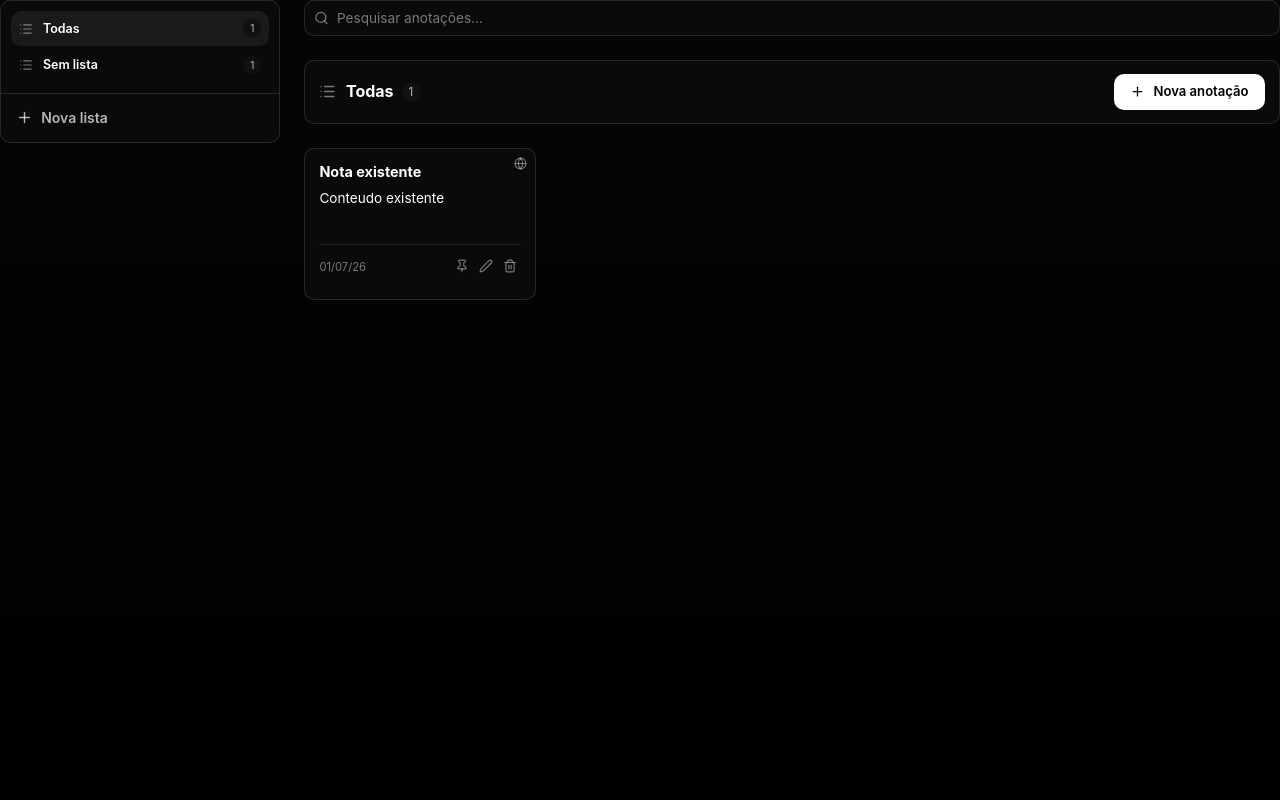
Notes Page › adds a new subtask from the note detail view
Click the text "Nota existente" at {"x": 370, "y": 172}, box [319,163,421,180]
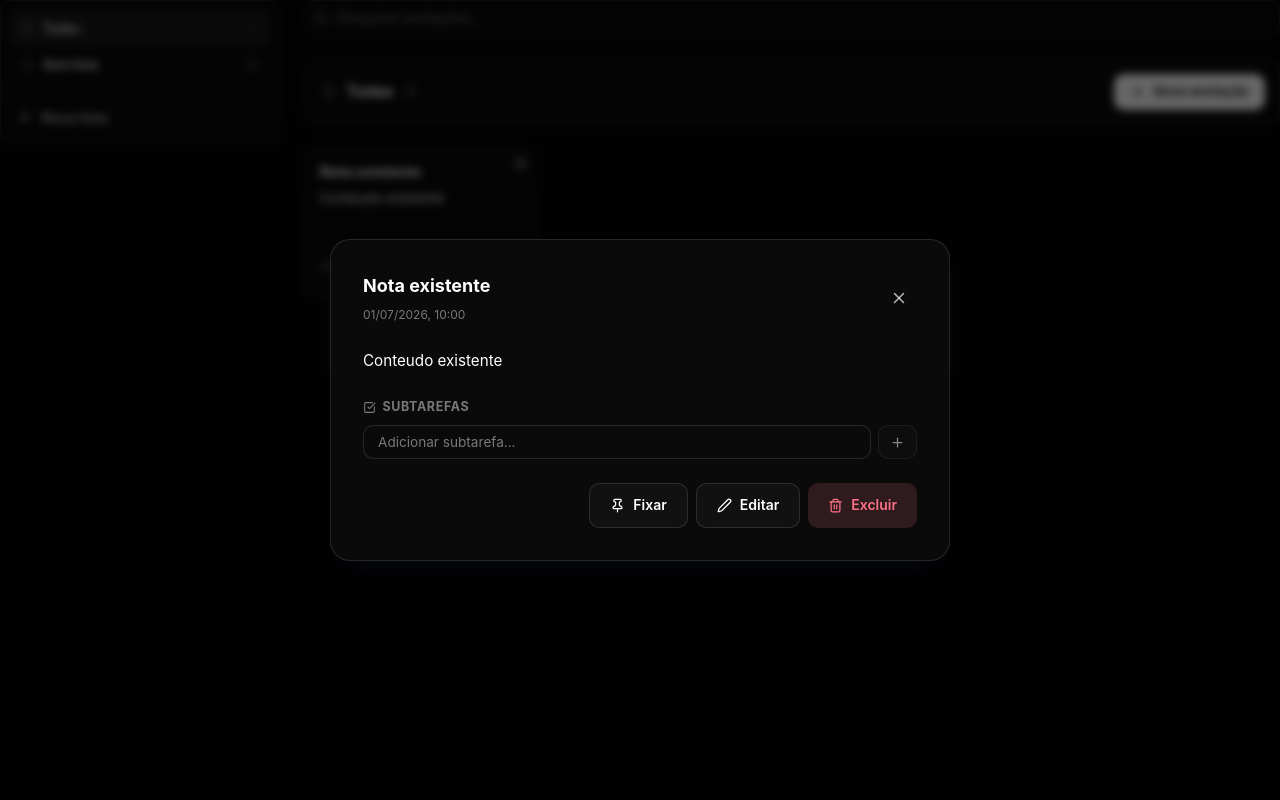
Type "Novo item" into the field with placeholder "Adicionar subtarefa..." at {"x": 617, "y": 442}, box [363,425,871,459]
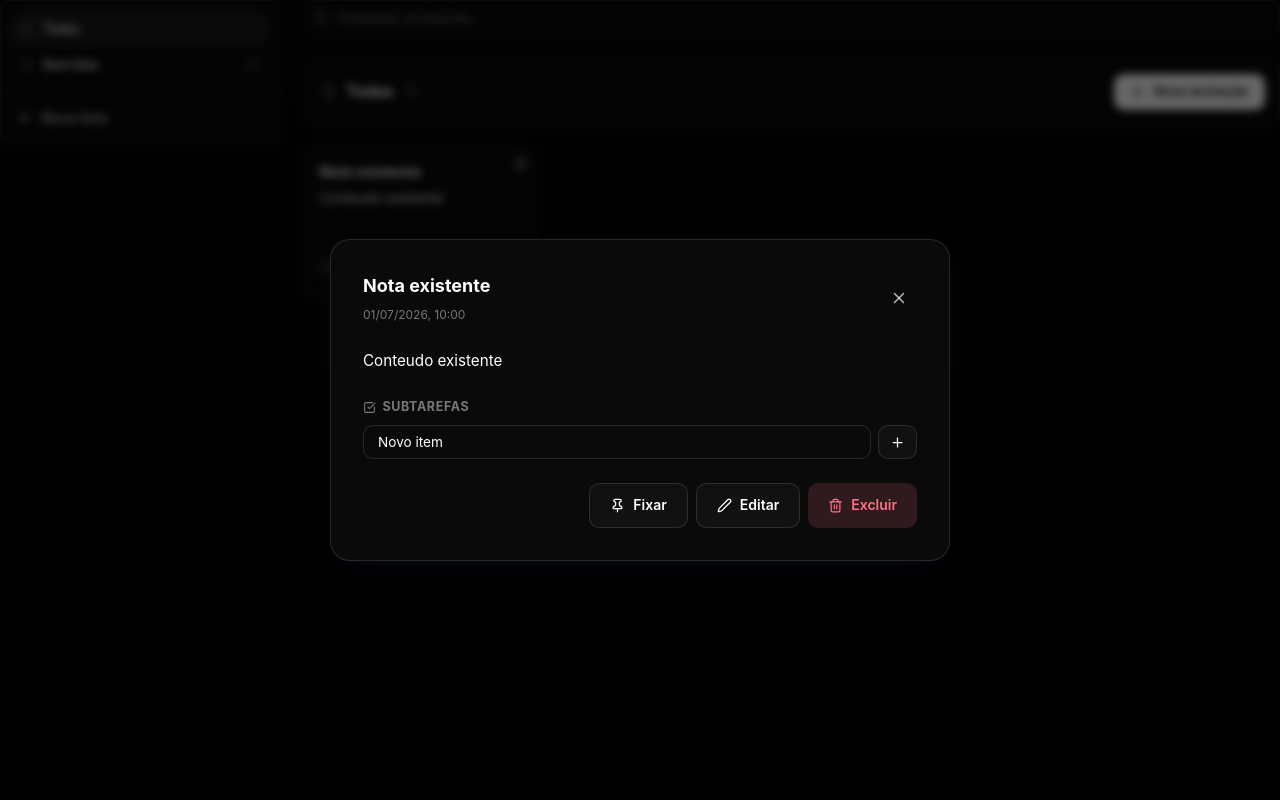
Click the button named "Adicionar subtarefa" at {"x": 897, "y": 442}, box [878,425,917,459]
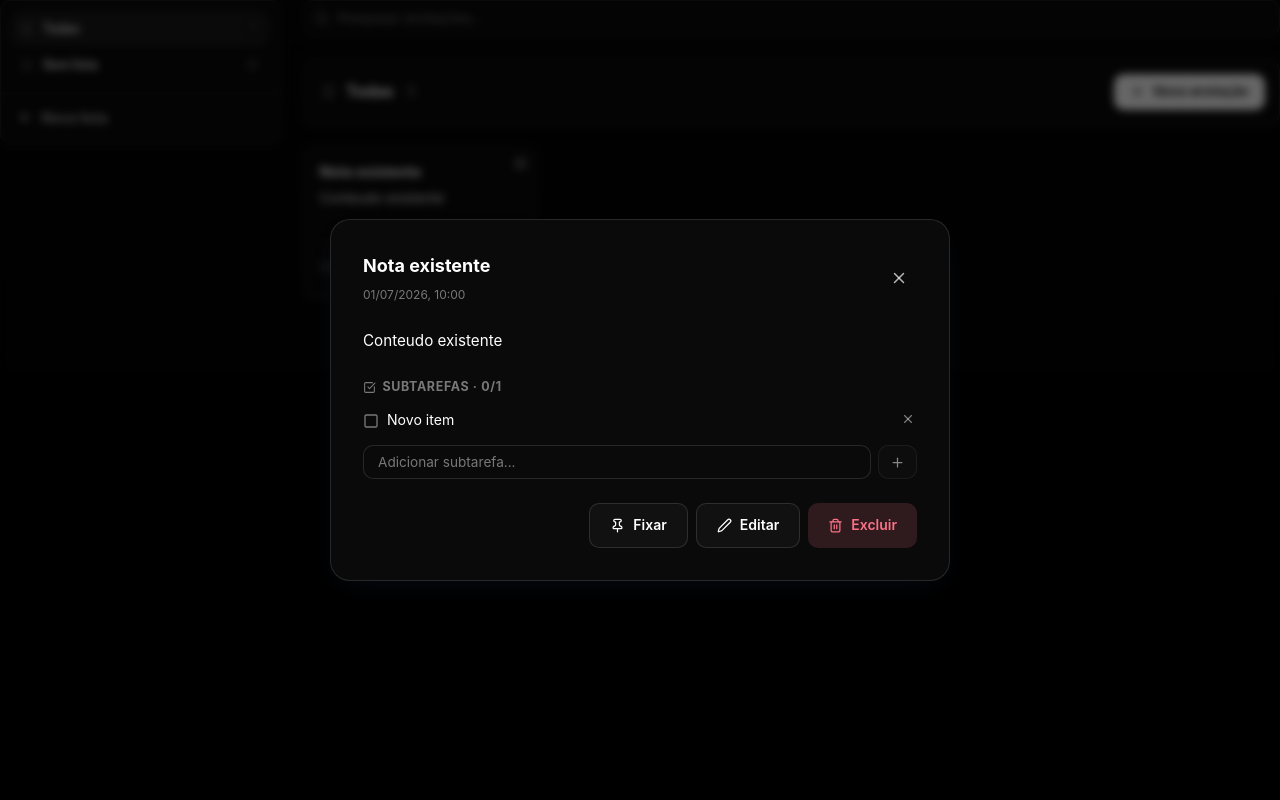
Now the text "Novo item" is shown, box [387,411,454,428]
